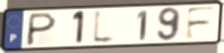1: (71, 10, 87, 46), (136, 10, 147, 42)
9: (157, 6, 184, 43)
F: (184, 5, 218, 41)
L: (91, 8, 118, 46)
P: (24, 11, 59, 47)
